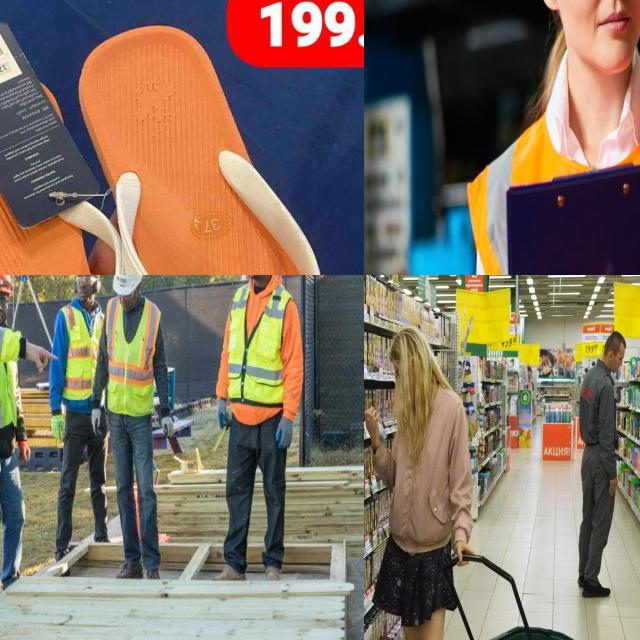Sandals: (0, 13, 364, 275)
face_nomask: (536, 0, 640, 60), (76, 275, 94, 307), (0, 290, 9, 331), (242, 275, 267, 281)
glasses: (73, 275, 97, 289)
hand_glove: (272, 414, 298, 452), (212, 394, 232, 430), (49, 412, 67, 449), (15, 436, 32, 469), (160, 414, 176, 441), (89, 409, 103, 437)
hand_noglove: (24, 334, 61, 376)
head_helmet: (111, 275, 144, 296), (0, 275, 14, 292)
person: (428, 0, 640, 275), (217, 275, 306, 583), (98, 275, 175, 578), (47, 275, 109, 566), (0, 275, 36, 595)
vest: (498, 77, 640, 275), (226, 281, 291, 409), (105, 293, 159, 419), (64, 307, 107, 411)
